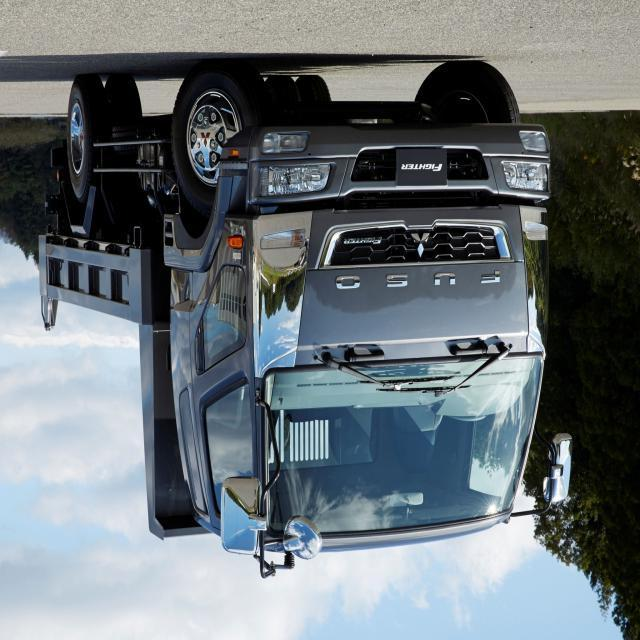truck: (35, 59, 583, 577)
